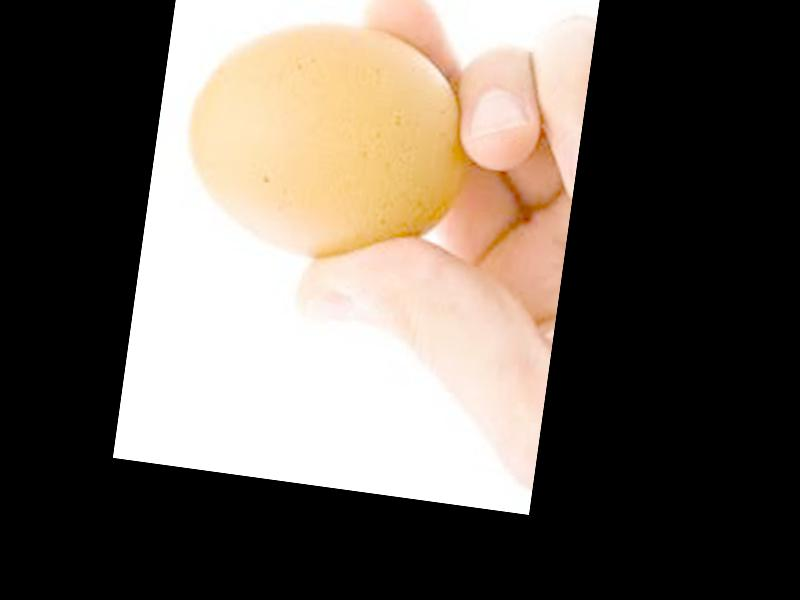Eggs: (171, 4, 475, 275)
